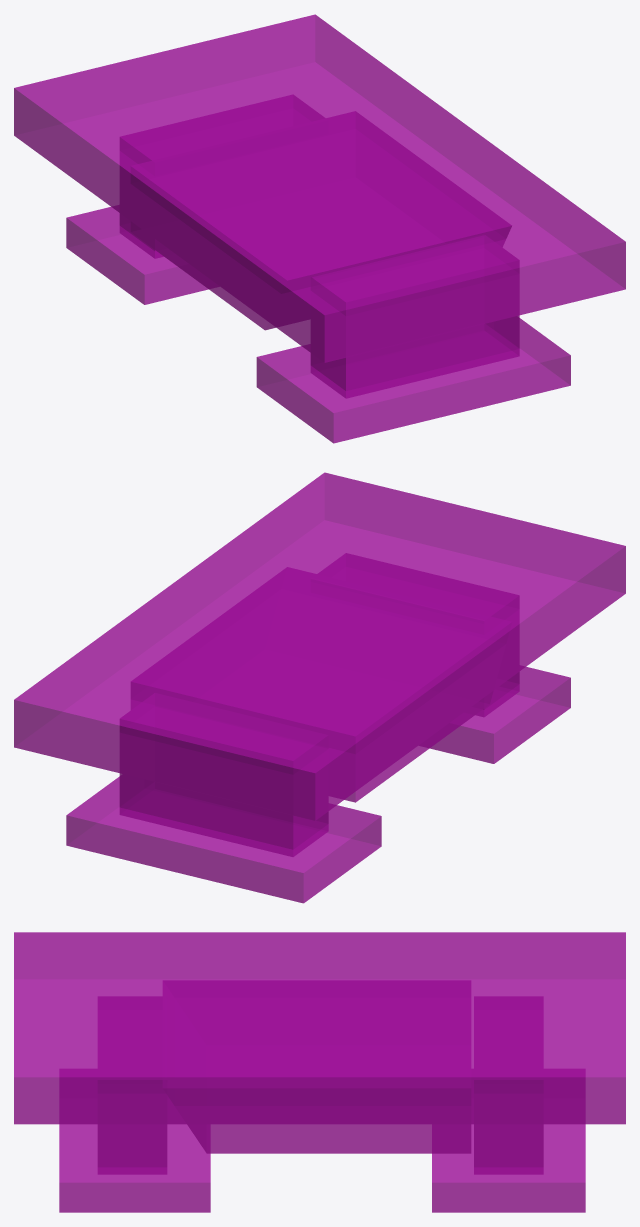
Rendered from SM_Prop_Bed_02_Collision.fbx.
3 renders of one model, top to bottom at view 1: azimuth 30°, elevation 25°; view 2: azimuth 150°, elevation 25°; view 3: azimuth 270°, elevation 25°, orthographic.
Visible parts, largest first — view 1: SM_Prop_Bed_02_Collision; view 2: SM_Prop_Bed_02_Collision; view 3: SM_Prop_Bed_02_Collision.
Part boxes in pixels (bbox=[...]): SM_Prop_Bed_02_Collision: bbox=[14, 14, 625, 443]; SM_Prop_Bed_02_Collision: bbox=[14, 472, 625, 903]; SM_Prop_Bed_02_Collision: bbox=[14, 932, 625, 1212].
Bounding box in the file's own units: 150 × 72.6 × 267.
